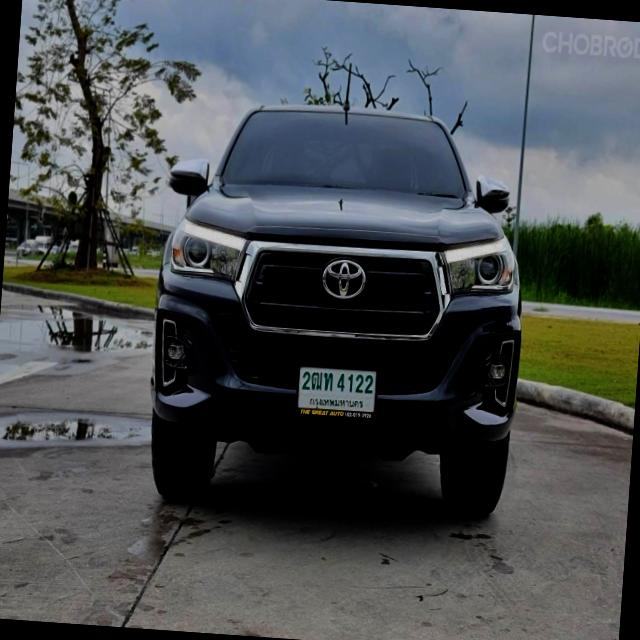license_plate: (291, 358, 380, 429)
